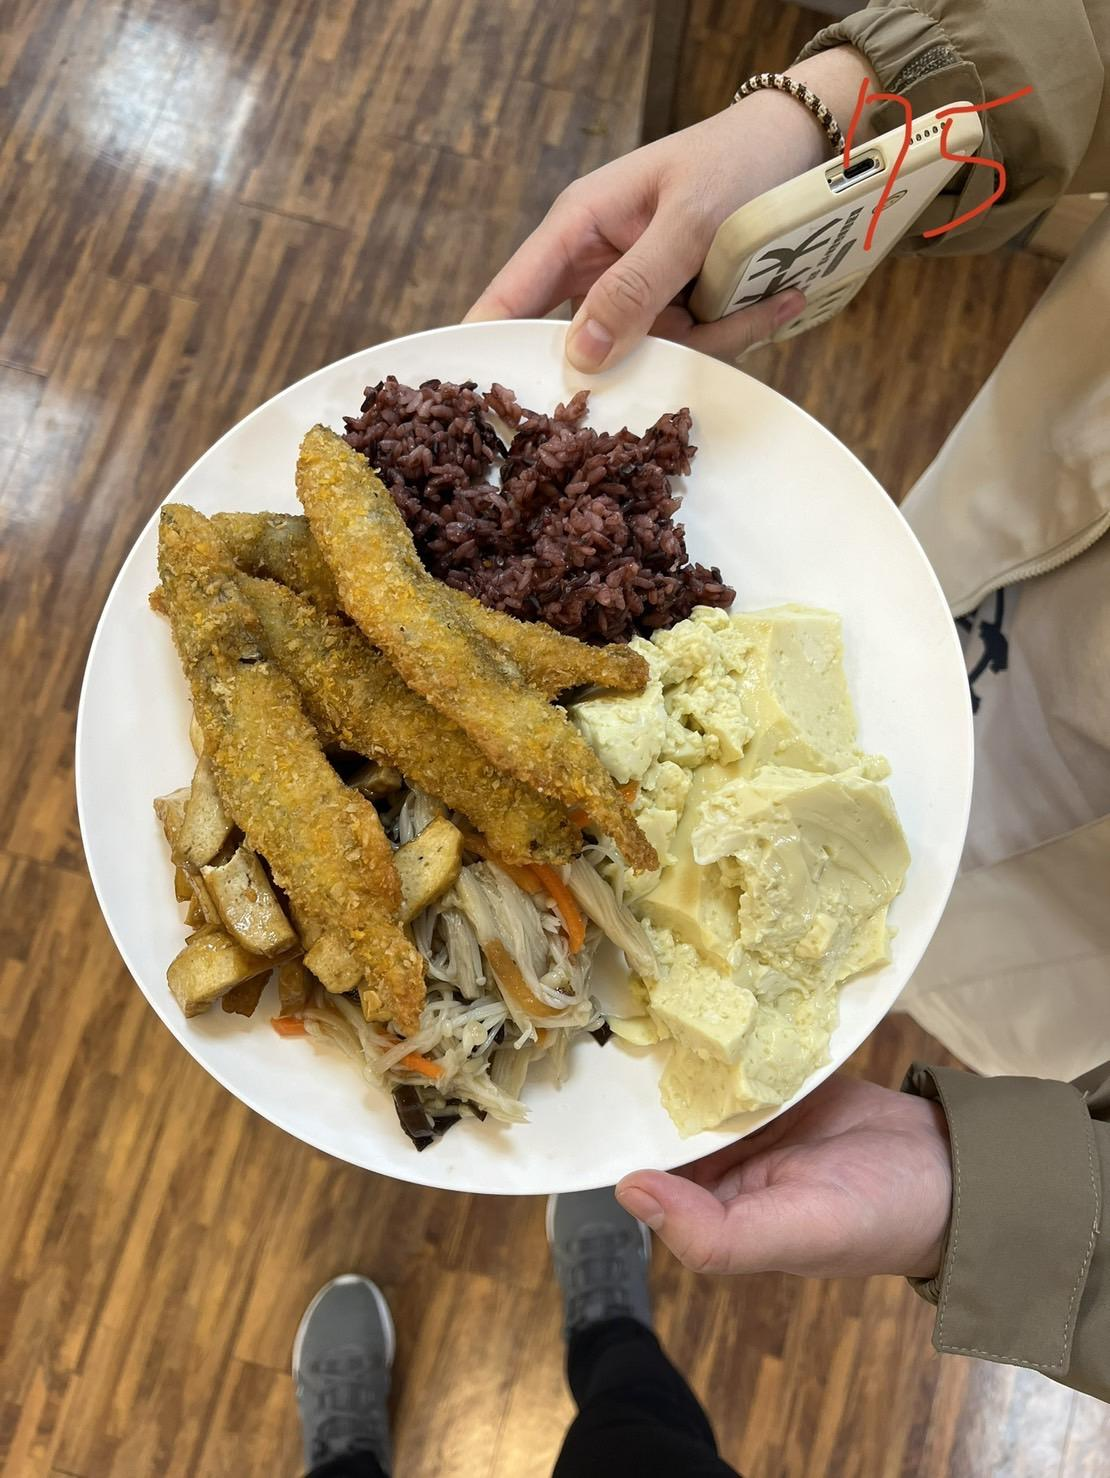big fried chicken leg: (71, 304, 993, 1208)
braised fish: (347, 371, 726, 632)
braised fish fillet: (585, 597, 898, 1119), (161, 763, 470, 1015), (372, 824, 607, 1129)
braised pork: (124, 437, 649, 988)
